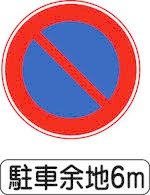Prohibition_sign: (1, 1, 147, 147)
